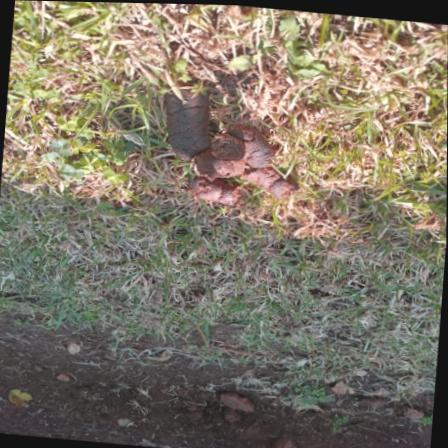dog-poop: (129, 76, 305, 217)
